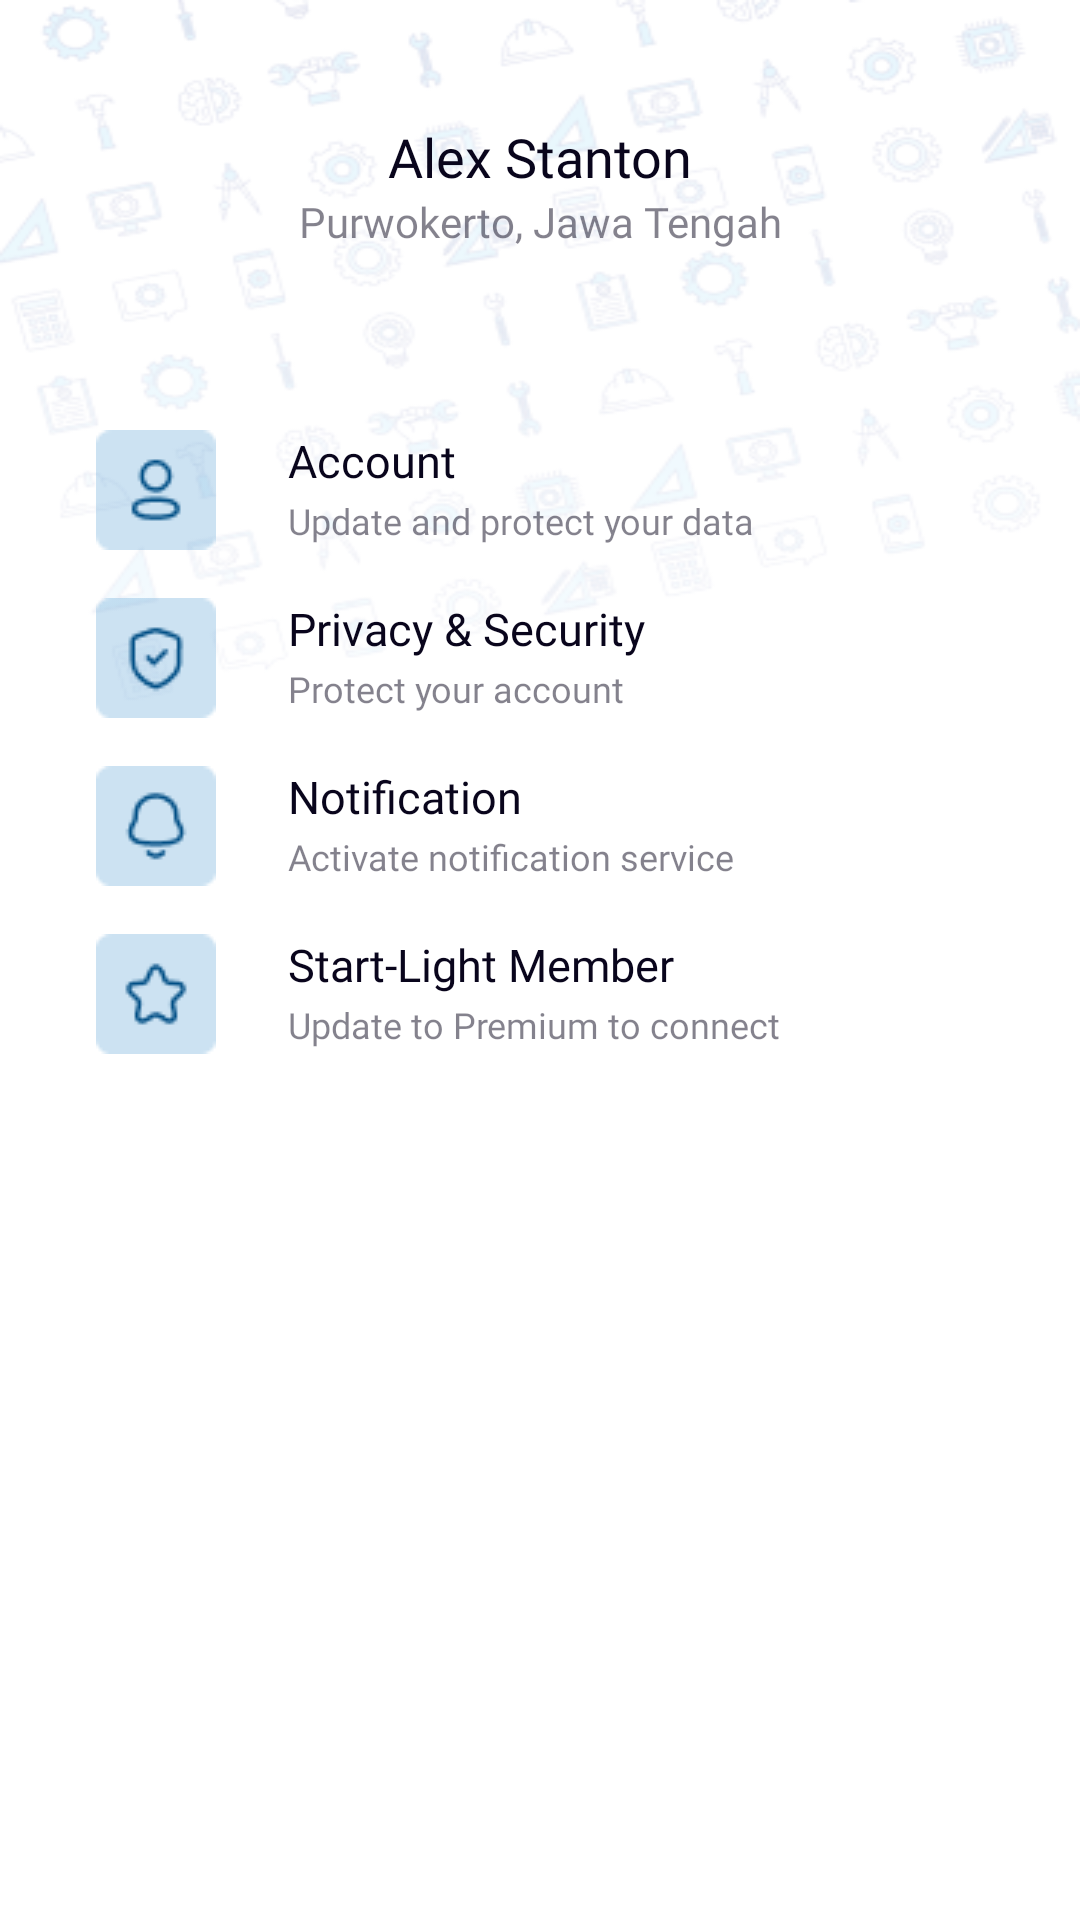

Where icons sit on this 1080w x 1920h app screen, as box(x1, y1, x2, y2):
person: box(96, 430, 216, 550)
policy: box(96, 598, 216, 718)
